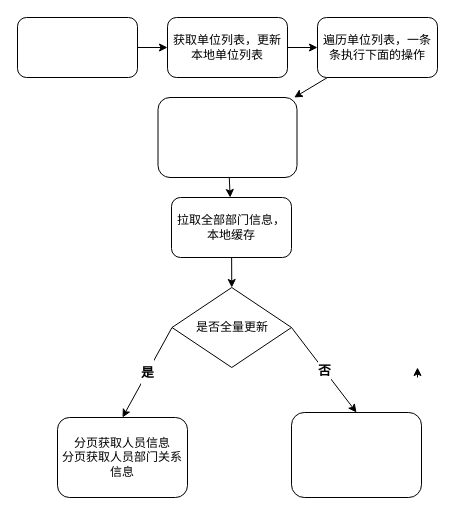
The diagram is 455 pixels wide and 515 high, and some of its shapes have lost their labels. The box of each missing label's shape, as (x1, y1, x2, y2) in pixels:
分页获取人员部门变动信息: (290, 412, 422, 498)
初始化数据库: (16, 16, 138, 78)
判断该单位下是否存在本地人员数据，不存在走标记为全量更新: (157, 96, 297, 178)
